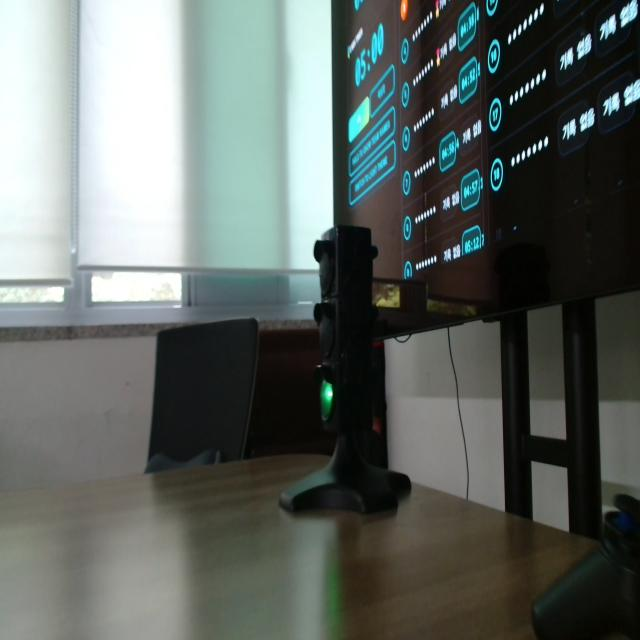green_light: (320, 380, 333, 420)
